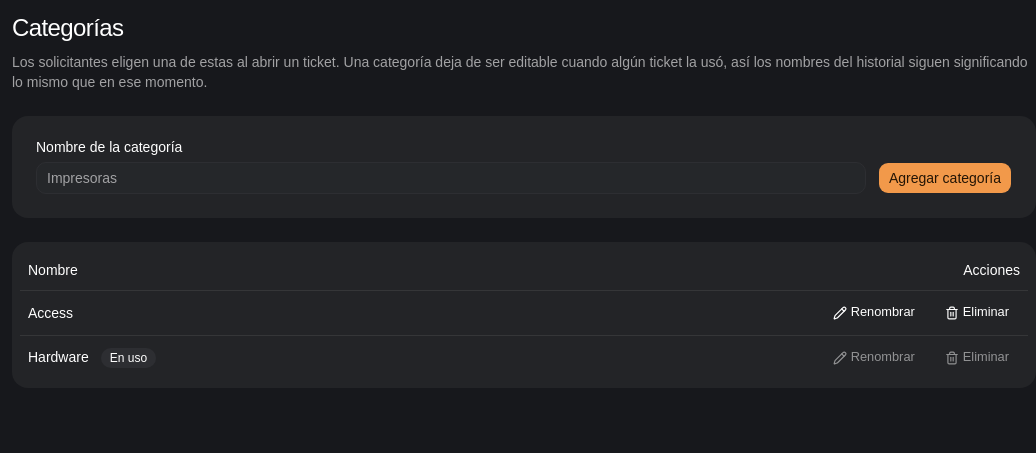
Test: CategoriesPage › shows what the API said when the name already exists
Expected: the text "Access" is shown, [28,304,73,320]
Type "Hardware" into the field labelled "Nombre de la categoría" at (451, 178), box [36,162,866,194]
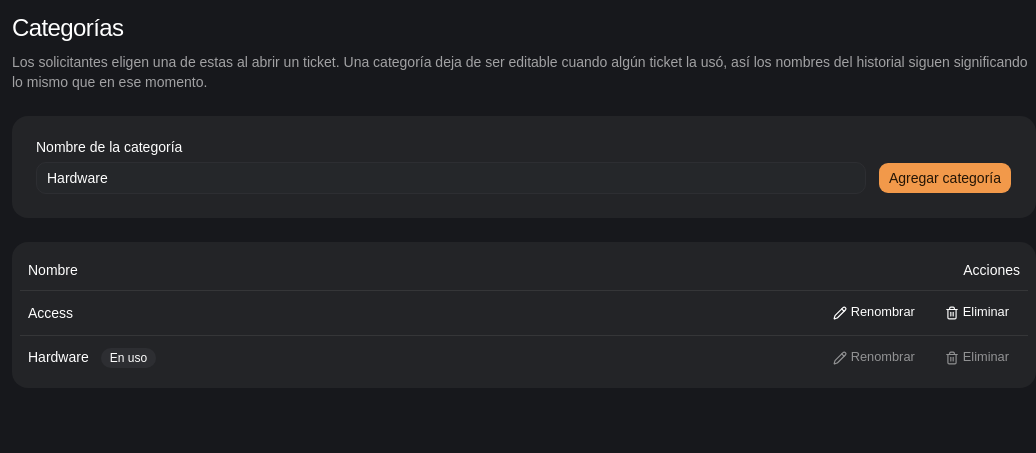
Click the button "Agregar categoría" at (945, 178), box [878,162,1012,194]
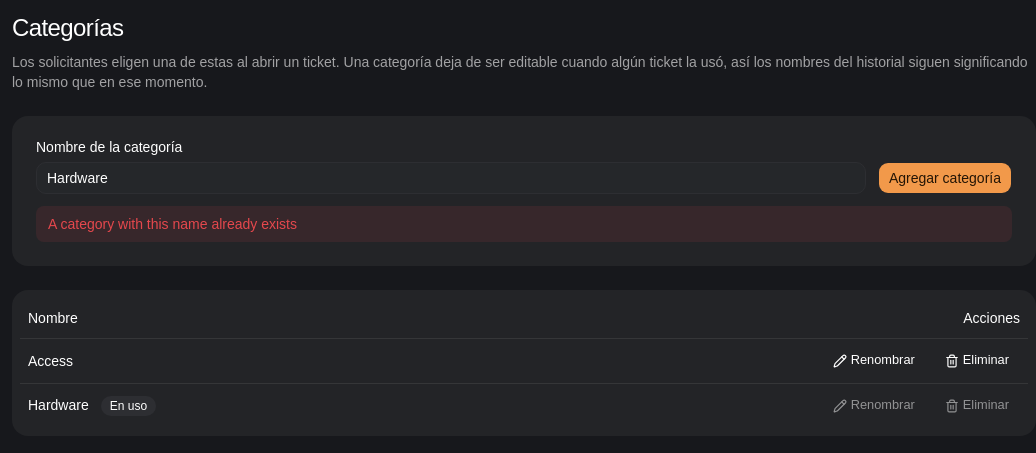
Expected: the text "A category with this name already exists" is shown, [36,206,1012,242]
